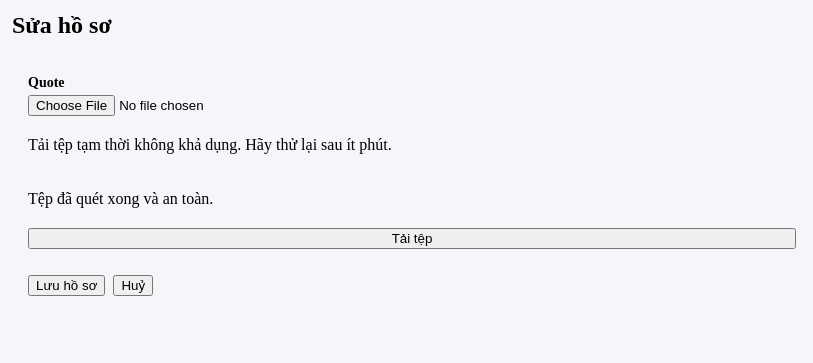
Test: keeps a replacement error visible if the canceled upload later reports a failure
Earlier steps of the test are not shown.
Expected: the message "Tải tệp tạm thời không khả dụng. Hãy thử lại sau ít phút." is shown, [28,136,392,153]
Expected: the text "Tệp đã quét xong và an toàn." is shown, [28,190,213,207]
Click the button "Lưu hồ sơ" at (67, 285), box [28,275,105,296]
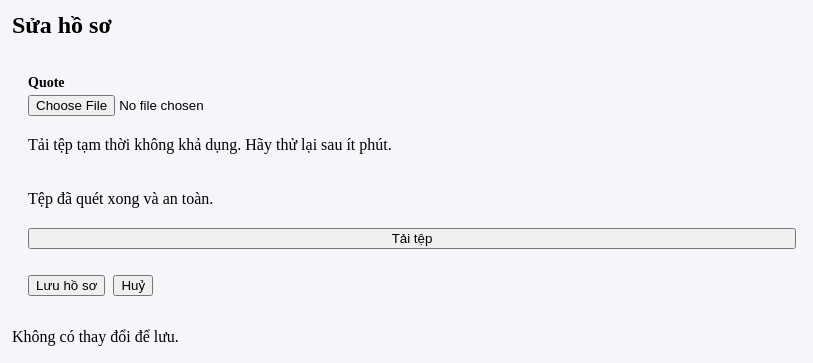
Now the text "Không có thay đổi để lưu." is shown, box [12,328,179,345]
